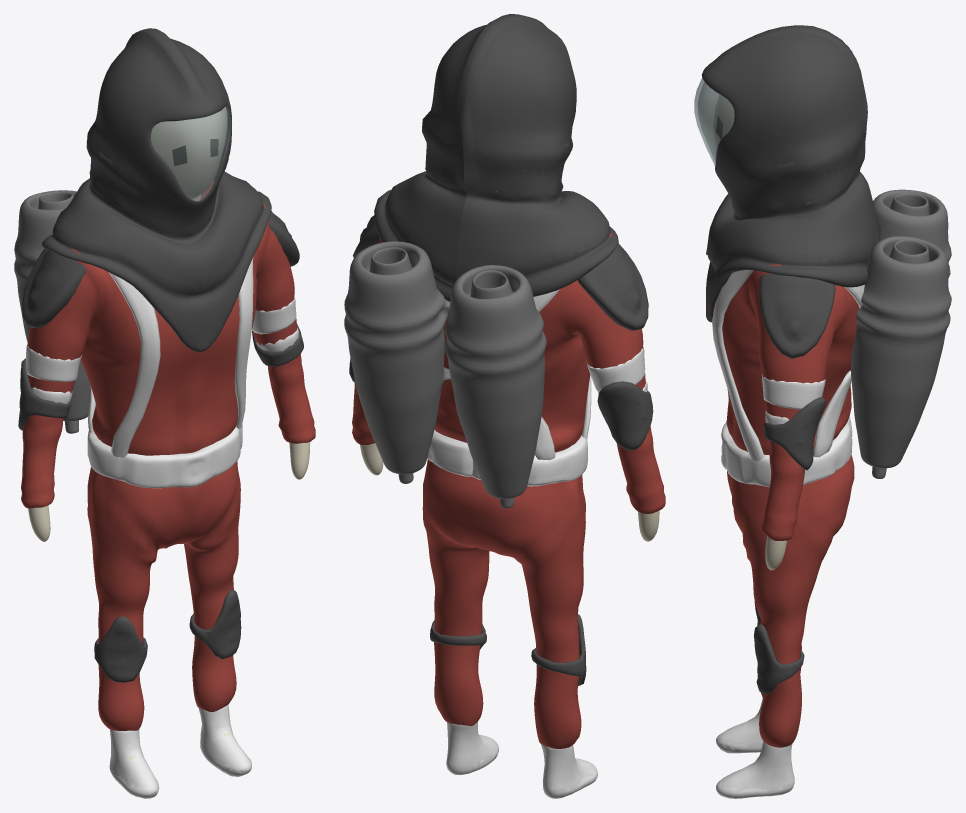
File: DemoModel.fbx
The picture shows the model from 3 angles, left to right: view 1: azimuth 30°, elevation 25°; view 2: azimuth 150°, elevation 25°; view 3: azimuth 270°, elevation 25°; orthographic projection. The views are drawn at different scales.
Visible parts, largest first — view 1: BaseJumpsuit:Group57496; view 2: BaseJumpsuit:Group57496; view 3: BaseJumpsuit:Group57496.
Part boxes in pixels (bbox=[...]): BaseJumpsuit:Group57496: bbox=[14, 28, 315, 798]; BaseJumpsuit:Group57496: bbox=[344, 14, 665, 798]; BaseJumpsuit:Group57496: bbox=[694, 25, 951, 798].
Bounding box in the file's own units: 48.75 × 118 × 36.4.
